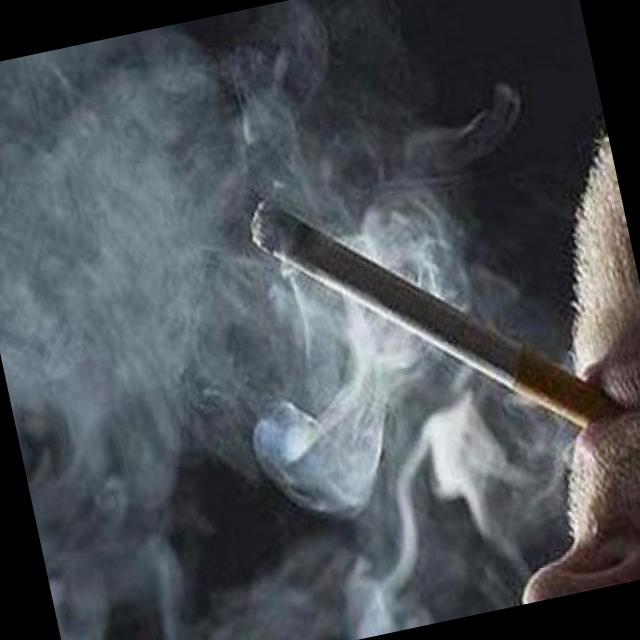cigarette: (230, 115, 638, 519)
